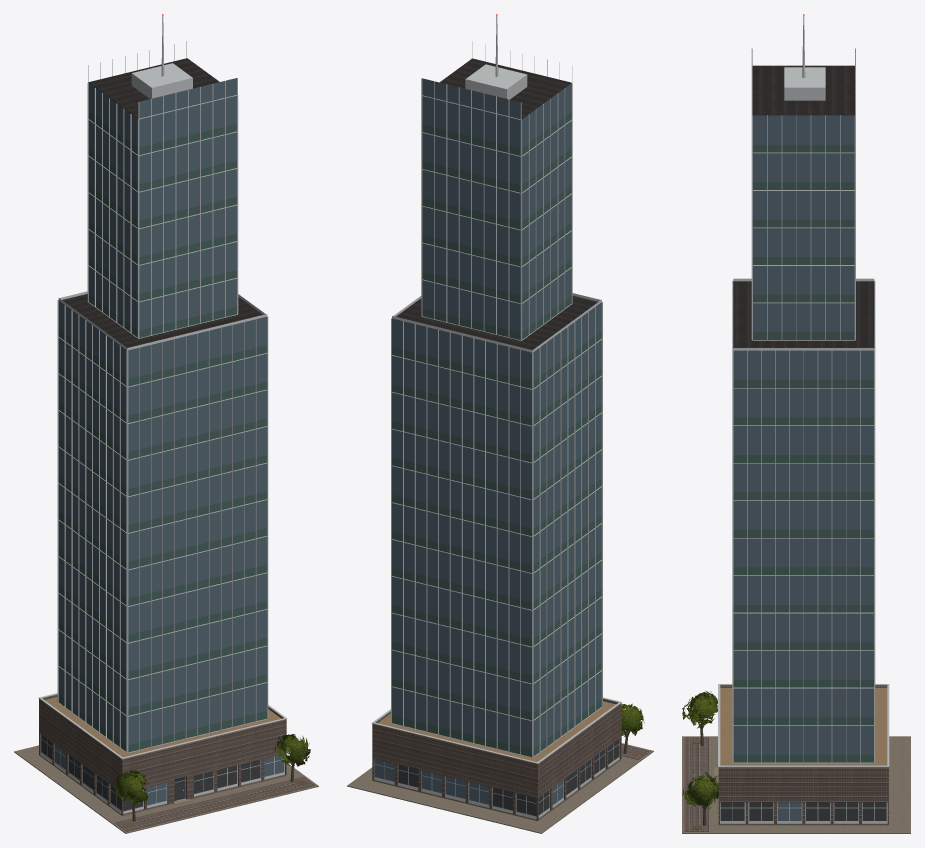
File: sky_glass.glb
3 views of the same model, side by side, from view 1: azimuth 30°, elevation 25°; view 2: azimuth 150°, elevation 25°; view 3: azimuth 270°, elevation 25° (orthographic). The views are drawn at different scales.
Visible parts, largest first — view 1: sky_glass_body, sky_glass_foliage; view 2: sky_glass_body, sky_glass_foliage; view 3: sky_glass_body, sky_glass_foliage.
Part boxes in pixels (x1,y1,x2,y2): sky_glass_body: (14, 14, 318, 833); sky_glass_foliage: (114, 733, 310, 805); sky_glass_body: (347, 14, 653, 833); sky_glass_foliage: (621, 703, 644, 737); sky_glass_body: (682, 14, 910, 833); sky_glass_foliage: (682, 690, 724, 809).
Size of the model in its own units: 0.94 by 3.5 by 0.94.
Materials: 18 (9 with a texture image).
